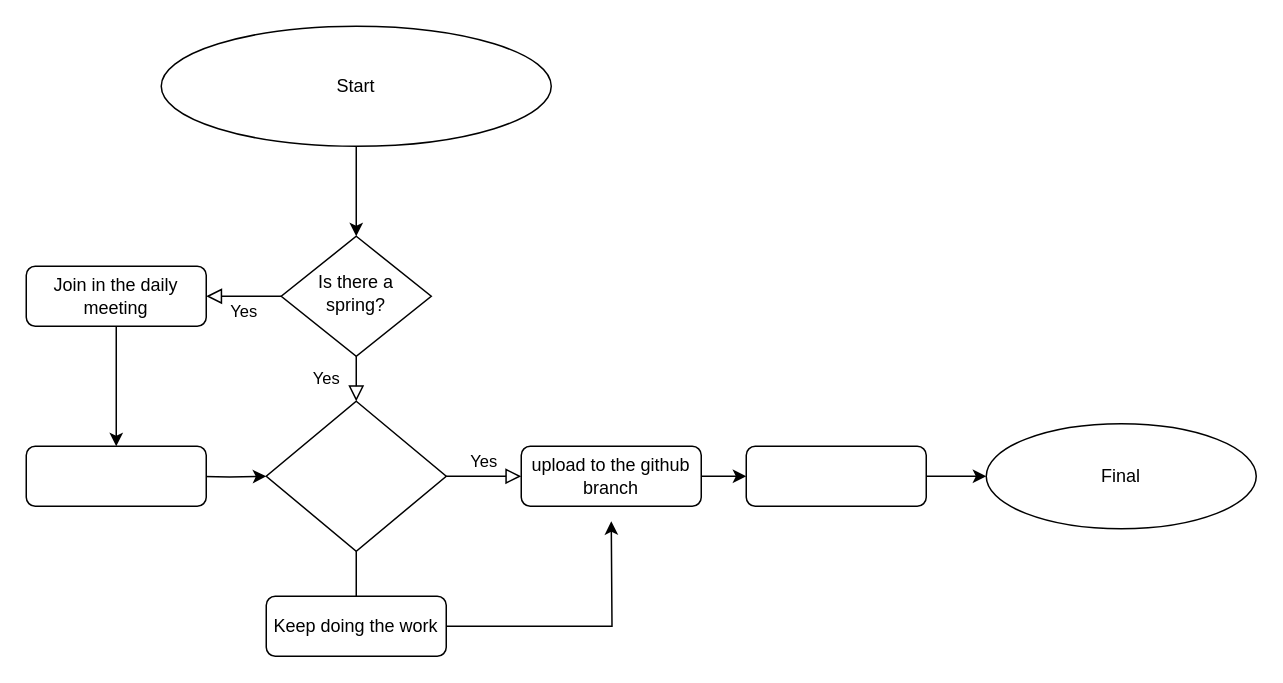
Image size: 1283x683. Some labels were removed from this diagram. The centre of each missing label's shape, as x and y in pixels:
"Advance the work" belongs at (x=115, y=475).
"Do you finished the work" belongs at (x=355, y=475).
"take a rest" belongs at (x=835, y=475).
